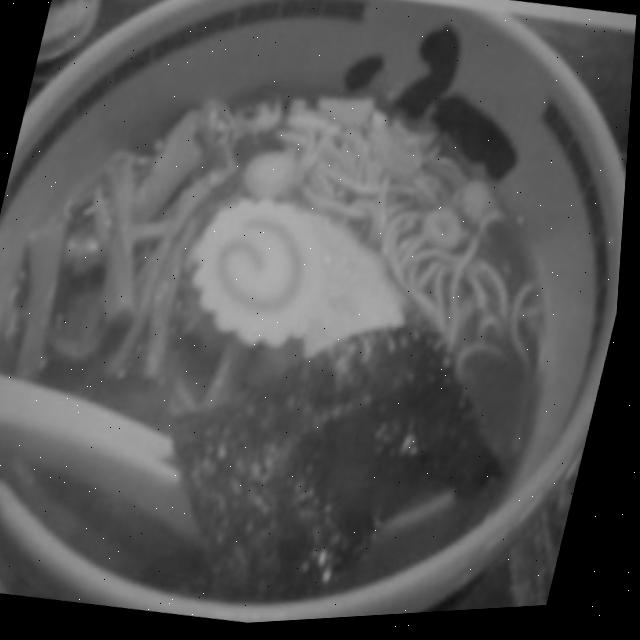面条主食: (0, 22, 620, 640)
